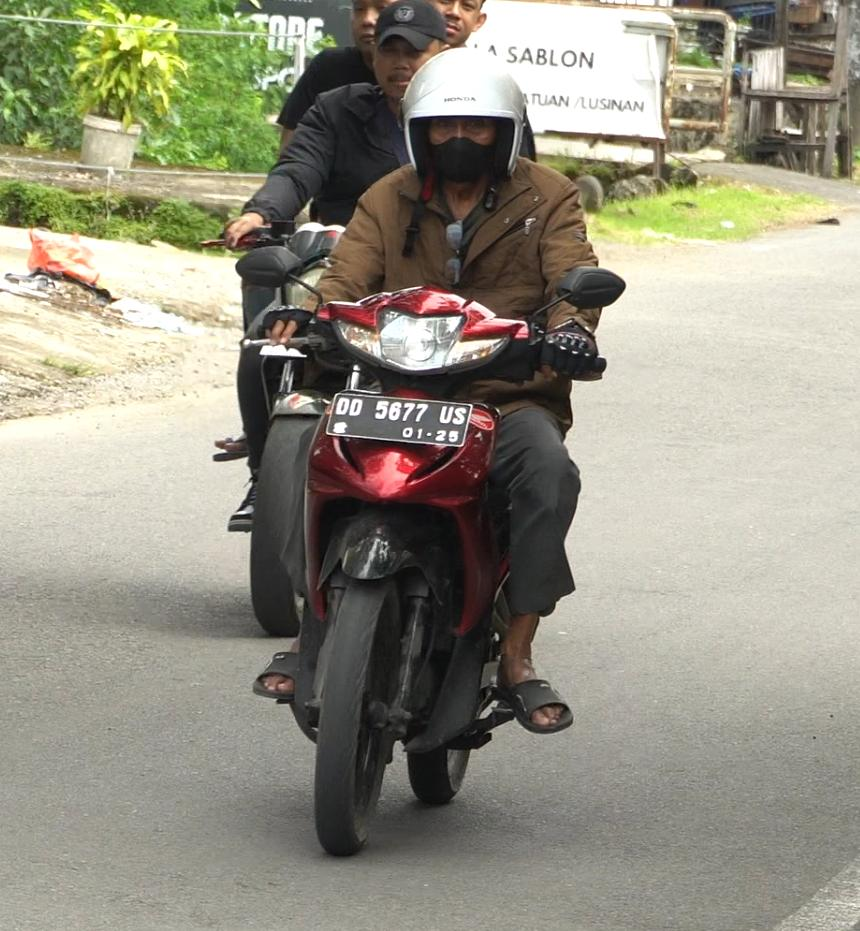number-plate: (326, 390, 472, 449)
